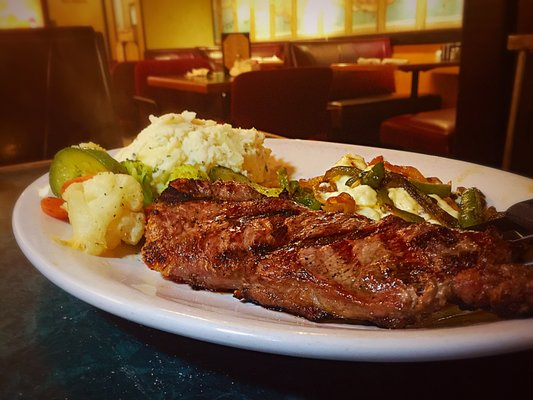curry: (7, 109, 532, 351)
pasta: (0, 24, 128, 169), (230, 67, 334, 140)
